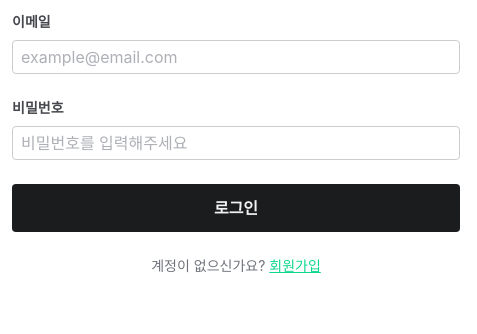
Scenario: SigninForm - Business Logic › Error Handling › shows specific error message for 401 Unauthorized
Type "wrong@test.com" into the field labelled "이메일" at (236, 57), box x1=12 y1=40 x2=460 y2=74
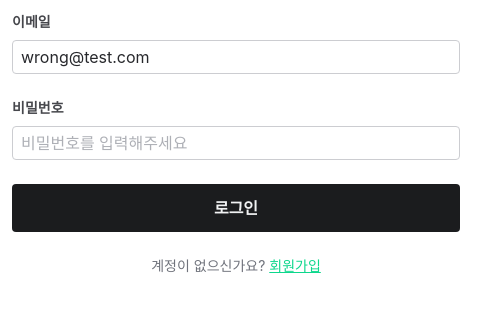
Type "wrongpassword" into the password field labelled "비밀번호" at (236, 143), box x1=12 y1=126 x2=460 y2=160
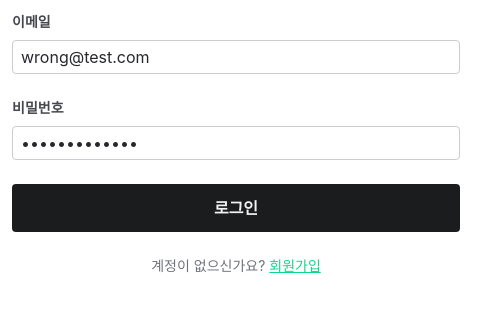
Click the button "로그인" at (236, 208), box x1=12 y1=184 x2=460 y2=232
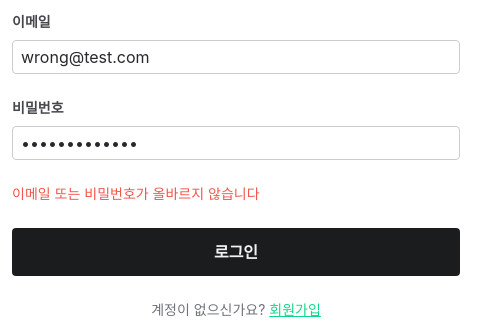
Result: the text "이메일 또는 비밀번호가 올바르지 않습니다" is shown at x1=12 y1=185 x2=260 y2=202
